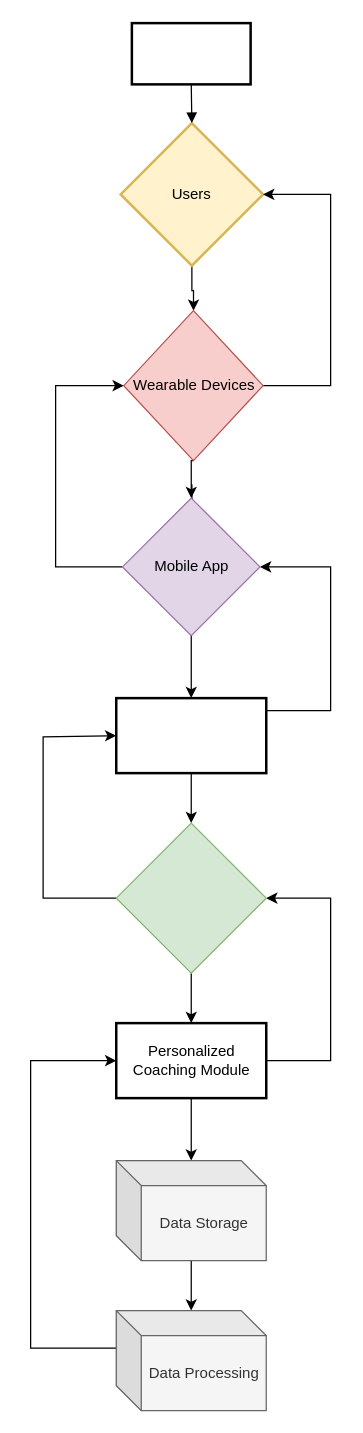
Image size: 363x1433. Some labels were removed from this diagram. The centre of each missing label's shape, as x and y in pixels:
"Personal Trainer Communication Module" goes at (x=190, y=897).
"Start" goes at (x=190, y=53).
"User Inteface" goes at (x=190, y=735).
